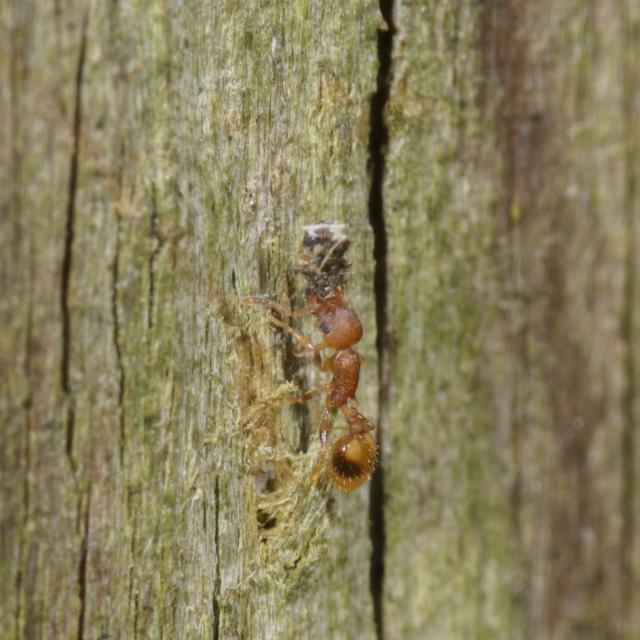Temnothorax: (269, 267, 396, 513)
